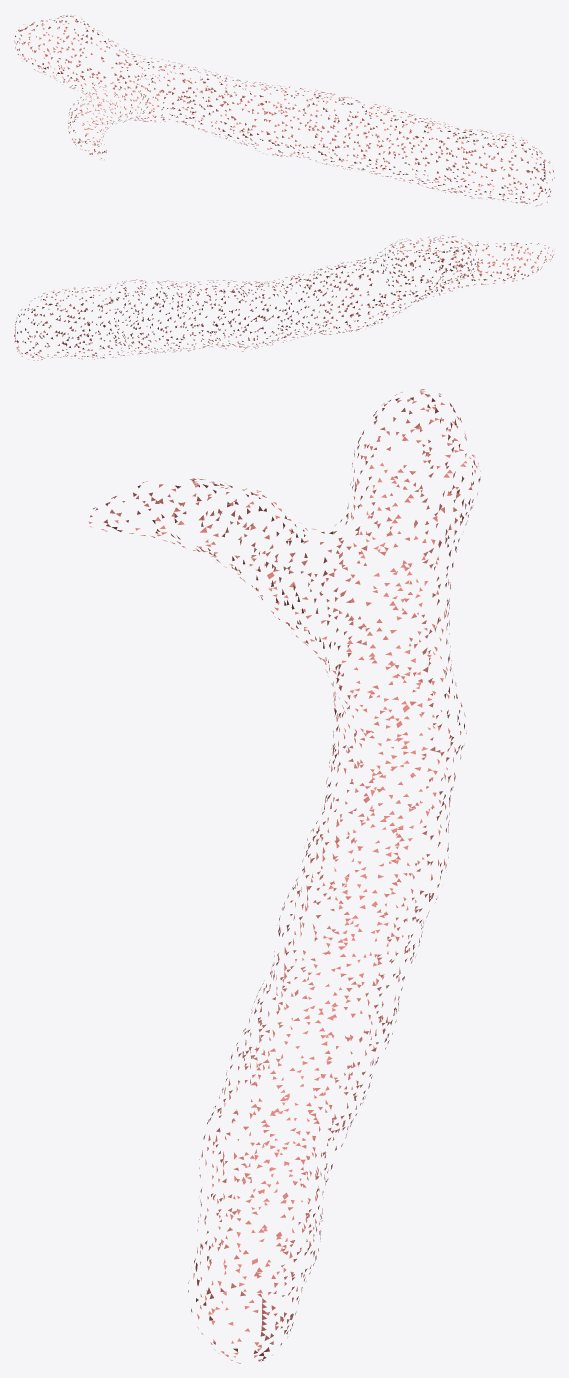
Rendered from morph_001.glb.
3 views of the same model, one above another, from view 1: azimuth 30°, elevation 25°; view 2: azimuth 150°, elevation 25°; view 3: azimuth 270°, elevation 25° (orthographic). The views are drawn at different scales.
Bounding box in the file's own units: 134 × 67.52 × 46.23.
